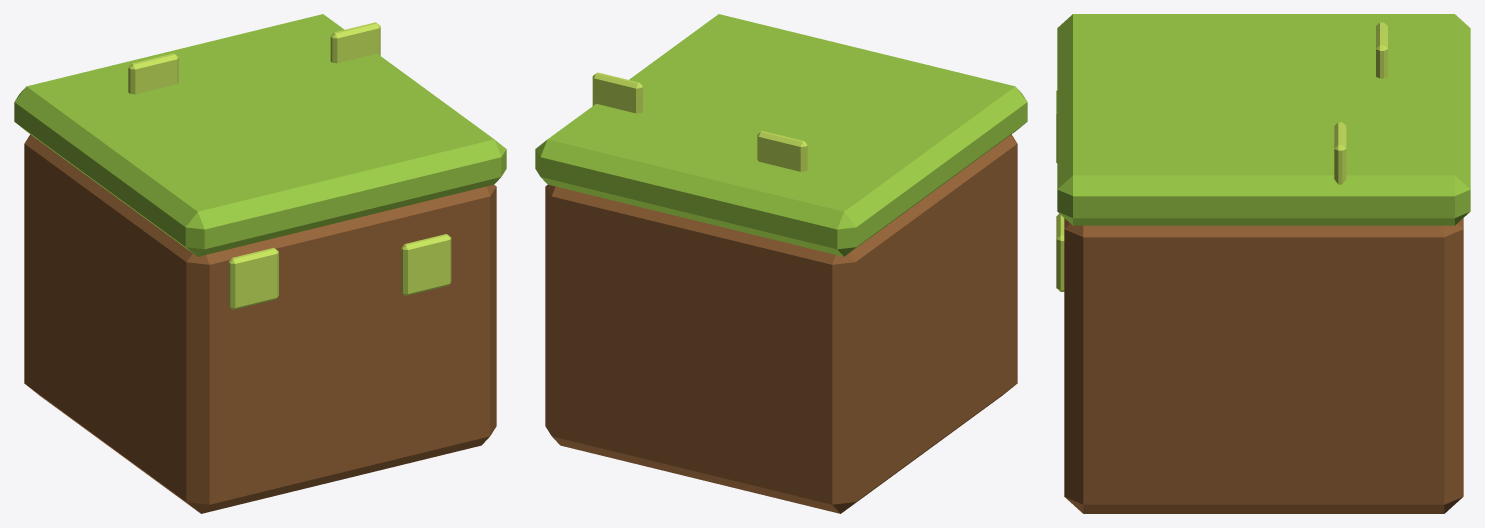
Rendered from voxhaven-grass-block.glb.
The picture shows the model from 3 angles, left to right: view 1: azimuth 30°, elevation 25°; view 2: azimuth 150°, elevation 25°; view 3: azimuth 270°, elevation 25°; orthographic projection. The views are drawn at different scales.
Parts seen in each view (by area): view 1: Soil, GrassTop, GrassDetail_0, GrassDetail_1, GrassDetail_2, GrassDetail_3; view 2: Soil, GrassTop, GrassDetail_2, GrassDetail_3; view 3: Soil, GrassTop, GrassDetail_2, GrassDetail_1, GrassDetail_3.
Boxes of the visible parts, x1,y1,x2,y2 form: Soil: (24, 134, 496, 513); GrassTop: (14, 14, 506, 256); GrassDetail_0: (228, 247, 278, 309); GrassDetail_1: (401, 234, 451, 295); GrassDetail_2: (330, 22, 380, 63); GrassDetail_3: (128, 53, 178, 94); Soil: (545, 134, 1017, 513); GrassTop: (535, 14, 1027, 256); GrassDetail_2: (592, 72, 642, 113); GrassDetail_3: (757, 131, 807, 171); Soil: (1064, 218, 1463, 513); GrassTop: (1057, 14, 1470, 225); GrassDetail_2: (1334, 122, 1346, 184); GrassDetail_1: (1056, 213, 1064, 291); GrassDetail_3: (1376, 22, 1387, 78).
Bounding box in the file's own units: 1.19 × 1.19 × 1.19.
